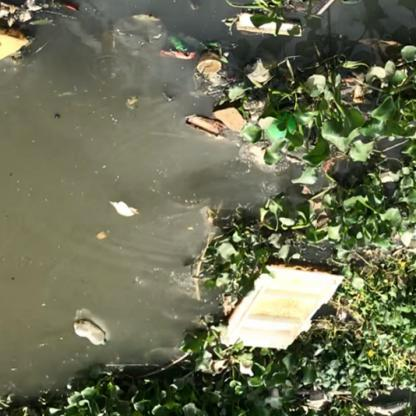Plastic: (72, 317, 111, 348), (193, 48, 225, 72)
Trash: (223, 271, 345, 350), (110, 196, 140, 224)
